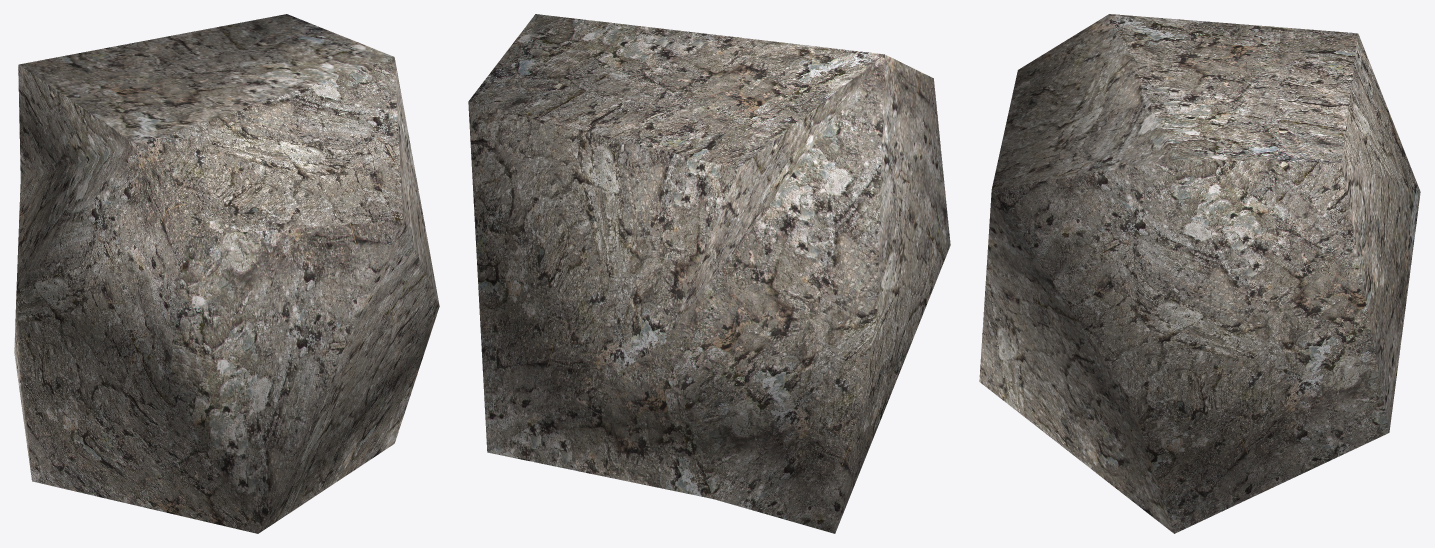
File: rock_011.dae
3 views of the same model, side by side, from view 1: azimuth 30°, elevation 25°; view 2: azimuth 150°, elevation 25°; view 3: azimuth 270°, elevation 25° (orthographic). The views are drawn at different scales.
Visible parts, largest first — view 1: rock0; view 2: rock0; view 3: rock0.
Part boxes in pixels (<box>): rock0: <box>14,14,439,533</box>; rock0: <box>468,14,950,533</box>; rock0: <box>979,14,1420,533</box>.
Bounding box in the file's own units: 2.41 × 2.56 × 2.45.
